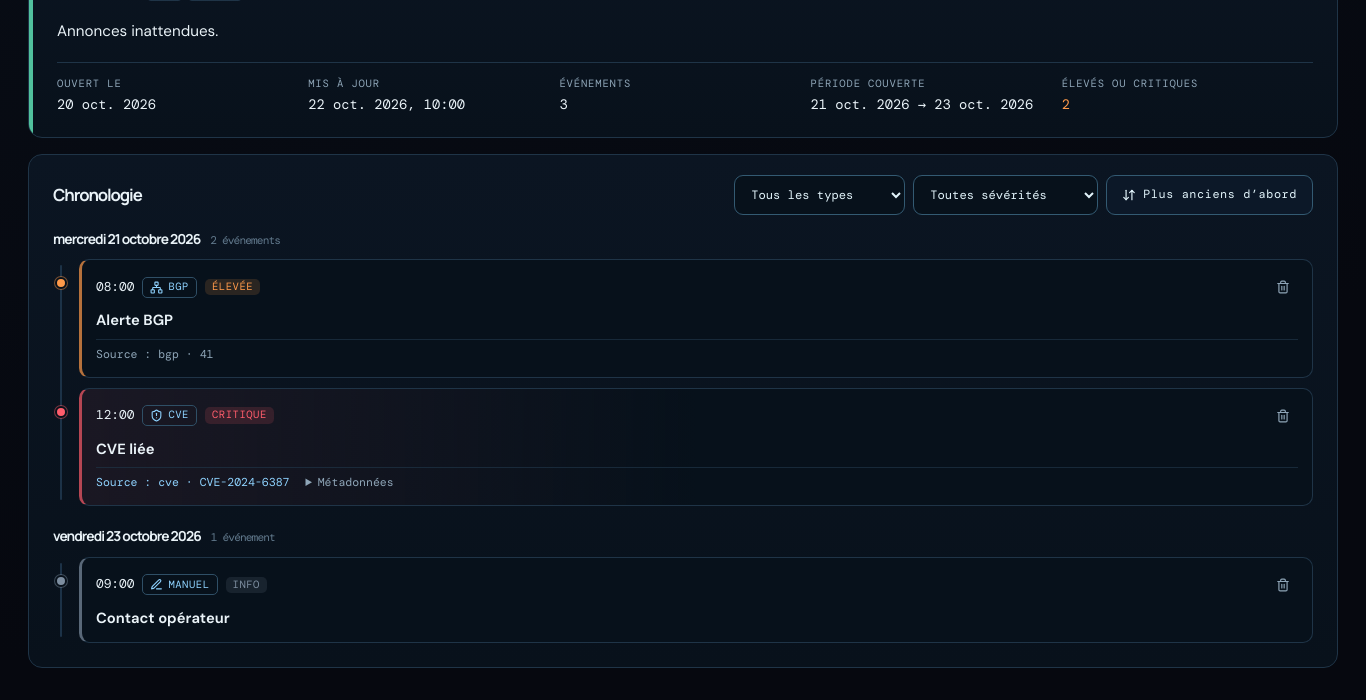
Investigations 2026 — fiche › ne supprime un événement qu'après confirmation
The image size is (1366, 700).
(page scrolled)
Click the button named "Supprimer l’événement Contact opérateur" at (1283, 585), box left=1268, top=570, right=1298, bottom=600
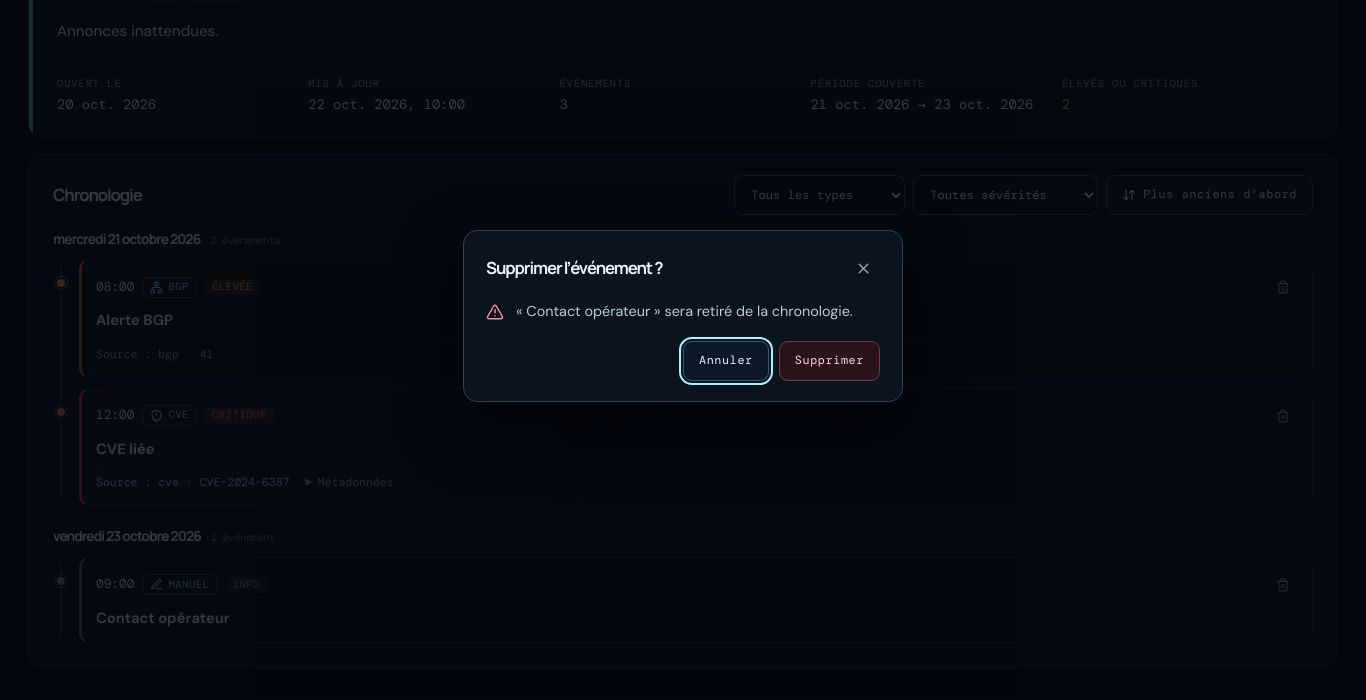
Click the button "Supprimer" at (829, 361), box left=779, top=341, right=880, bottom=381
(page scrolled)
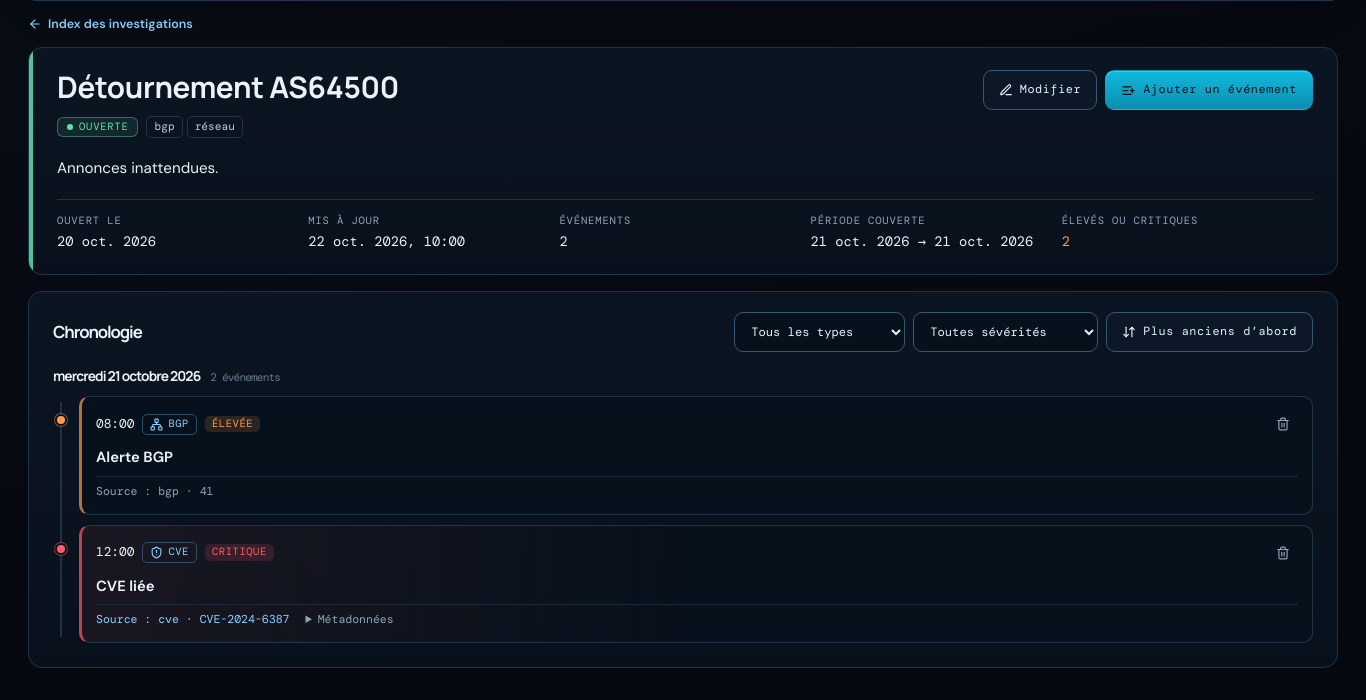
Now the heading "Contact opérateur" is gone
